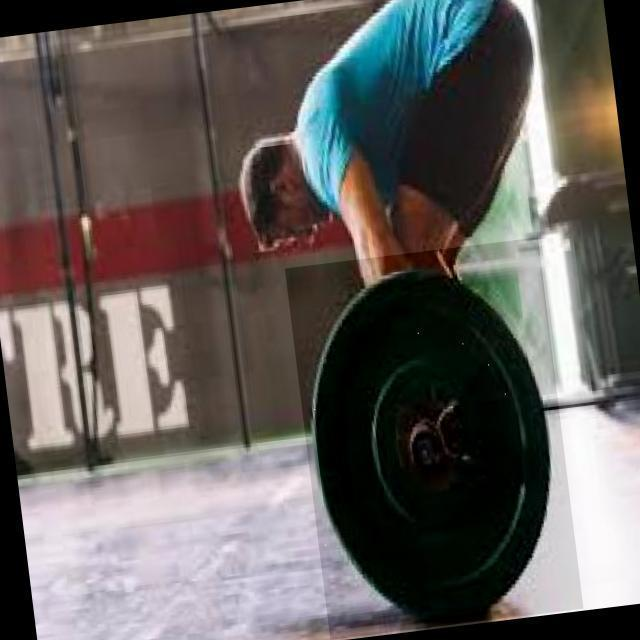barbell: (286, 239, 585, 640)
